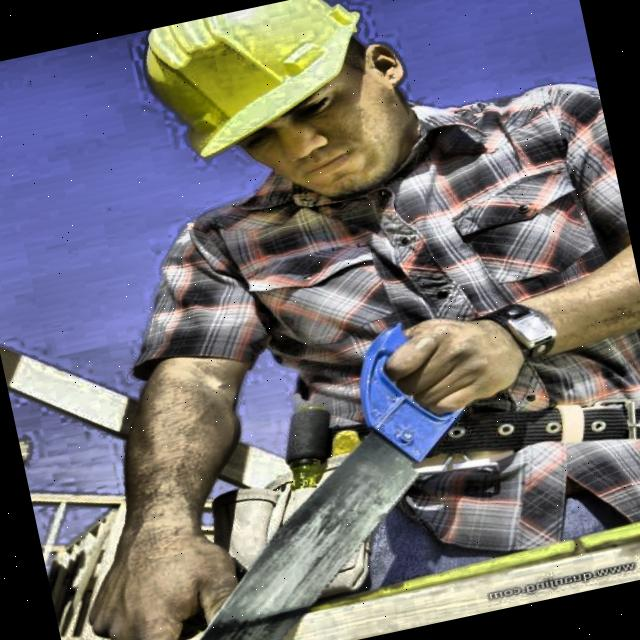helmet: (112, 0, 452, 241)
